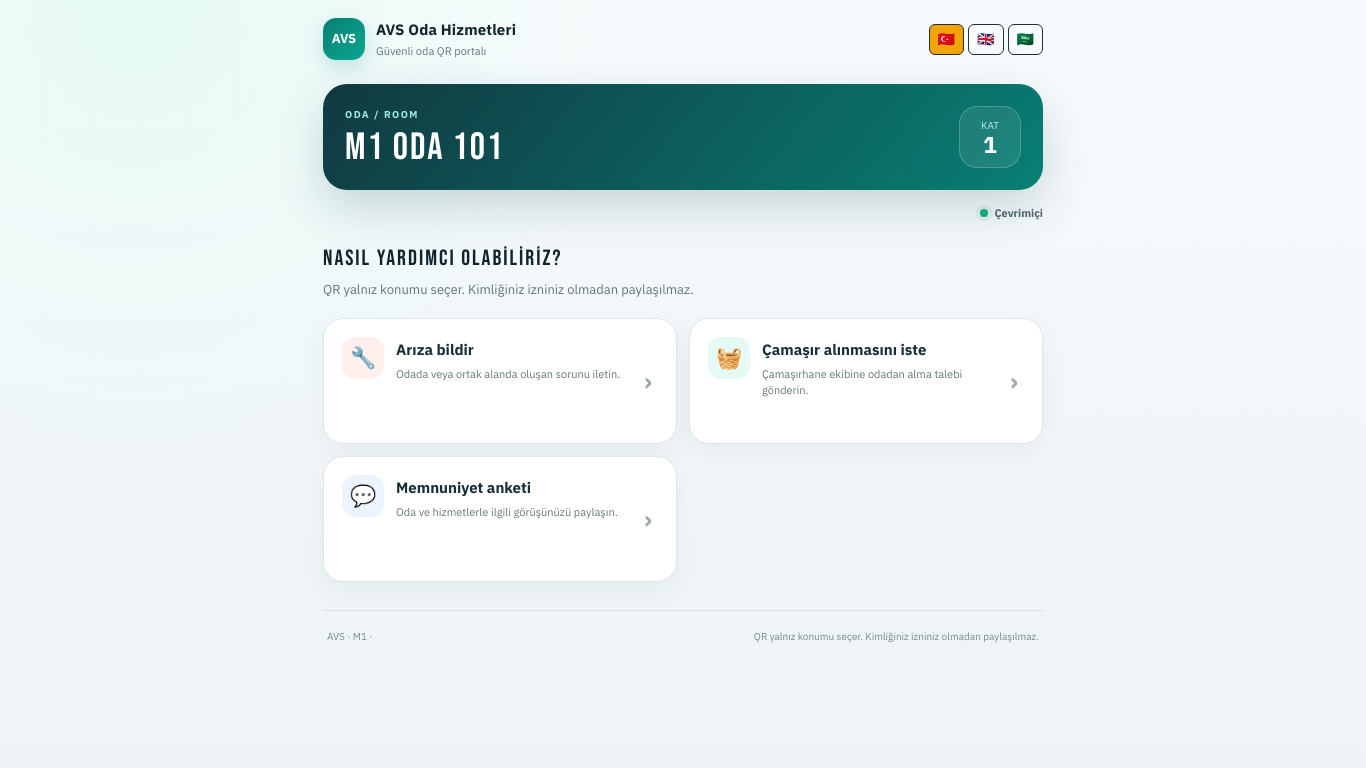
Scenario: RoomPortalPage › PIN zorunlu işlemden vazgeçince anonim geçiş seçeneği açmaz
Click the button "Arıza bildir".
click(500, 380)  # box [323,318,677,444]
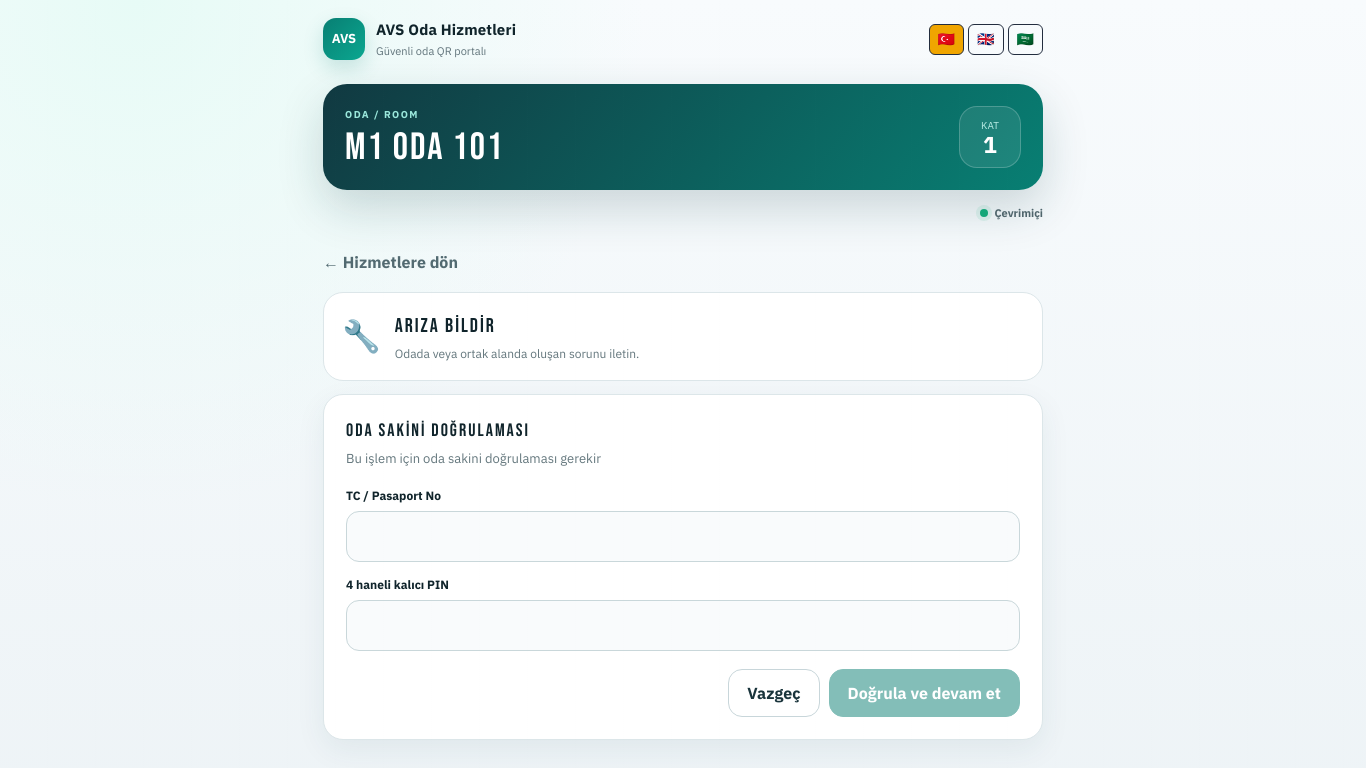
Click the button "Vazgeç".
click(774, 693)  # box [728,669,820,717]
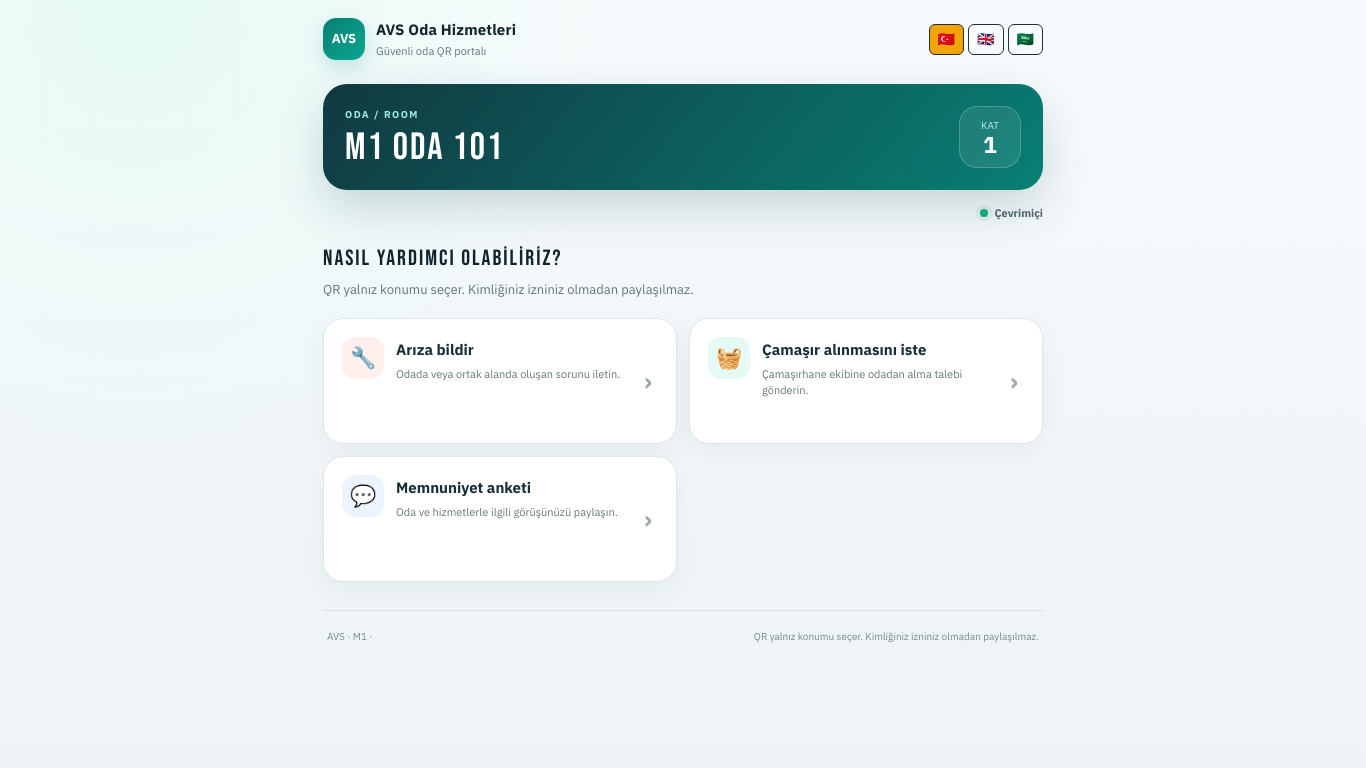
Check: the button "Arıza bildir" is shown, box [323,318,677,444]
